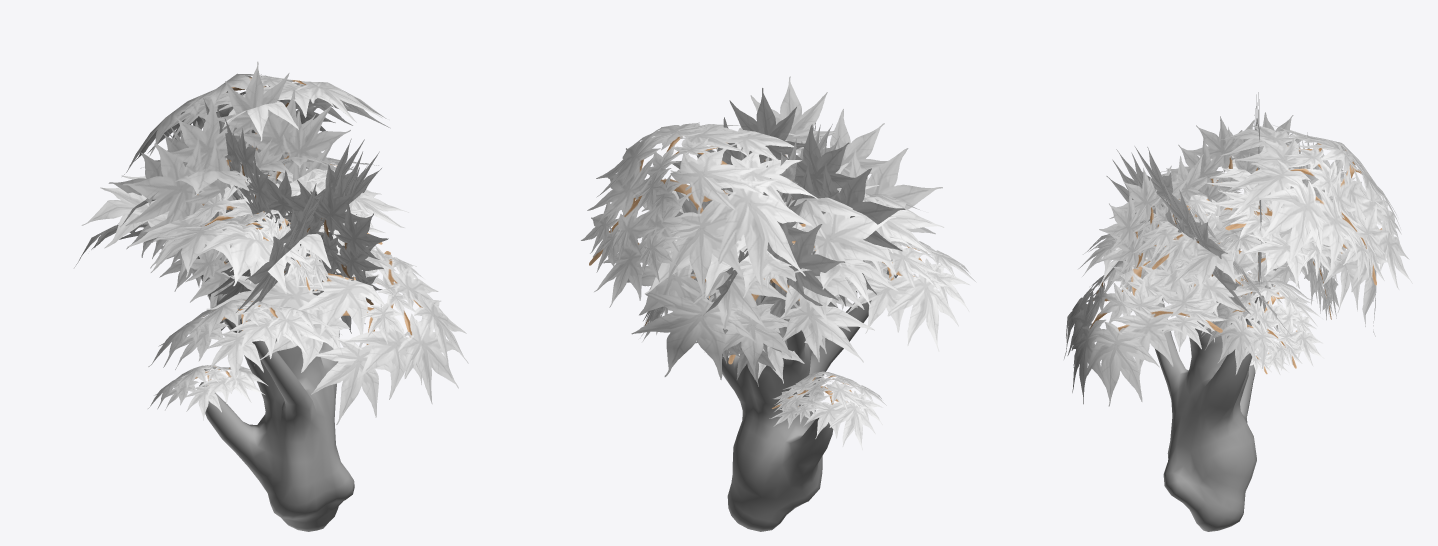
The model's file is Tree_01.fbx.
3 views of the same model, side by side, from view 1: azimuth 30°, elevation 25°; view 2: azimuth 150°, elevation 25°; view 3: azimuth 270°, elevation 25° (orthographic). The views are drawn at different scales.
Parts seen in each view (by area): view 1: pPlane19, Trunk_02:Group25436, pPlane11, pPlane2, pPlane6, pPlane20, pPlane12, pPlane13, pPlane7, pPlane8, pPlane18, pPlane10 (+2 smaller); view 2: pPlane20, pPlane18, Trunk_02:Group25436, pPlane11, pPlane6, pPlane13, pPlane2, pPlane7, pPlane15, pPlane17, pPlane10; view 3: pPlane20, Trunk_02:Group25436, pPlane19, pPlane5, pPlane18, pPlane2, pPlane12, pPlane10, pPlane13, pPlane16, pPlane15, pPlane6 (+4 smaller).
Part boxes in pixels (x1,y1,x2,y2): pPlane19: (206,243,468,424); Trunk_02:Group25436: (197,217,354,531); pPlane11: (123,61,353,311); pPlane2: (81,158,408,293); pPlane6: (148,298,342,384); pPlane20: (122,73,390,176); pPlane12: (246,170,388,333); pPlane13: (236,138,381,365); pPlane7: (148,365,267,420); pPlane8: (207,209,327,291); pPlane18: (74,155,378,267); pPlane10: (198,98,278,227); pPlane20: (581,122,818,307); pPlane18: (627,162,896,379); Trunk_02:Group25436: (722,260,897,531); pPlane11: (672,88,905,307); pPlane6: (832,241,976,351); pPlane13: (670,76,942,353); pPlane2: (644,193,944,306); pPlane7: (769,371,886,450); pPlane15: (675,147,845,386); pPlane17: (704,274,872,383); pPlane10: (766,124,839,283); pPlane20: (1219,125,1412,289); Trunk_02:Group25436: (1154,268,1277,531); pPlane19: (1064,244,1257,406); pPlane5: (1201,280,1324,374); pPlane18: (1199,156,1376,336); pPlane2: (1109,165,1400,292); pPlane12: (1099,154,1207,312); pPlane10: (1166,112,1324,250); pPlane13: (1106,146,1250,324); pPlane16: (1166,196,1291,342); pPlane15: (1292,132,1339,320); pPlane6: (1078,232,1150,289).
Bounding box in the file's own units: 0.101 × 0.1413 × 0.098.
